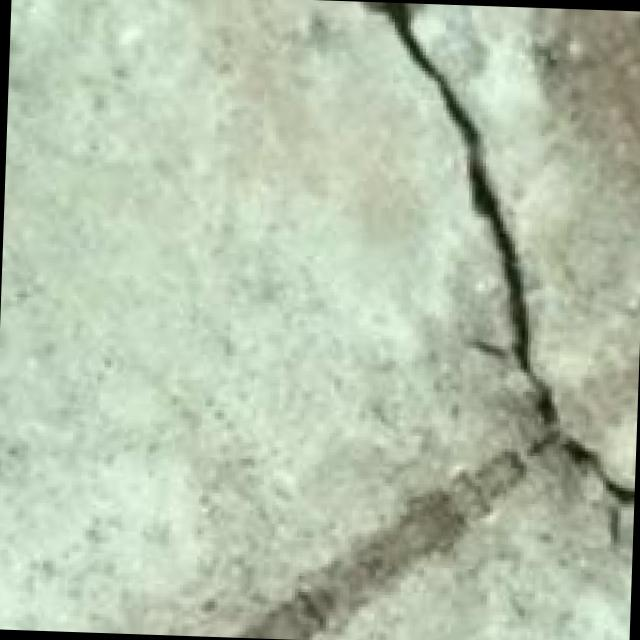crack: (337, 1, 640, 571)
